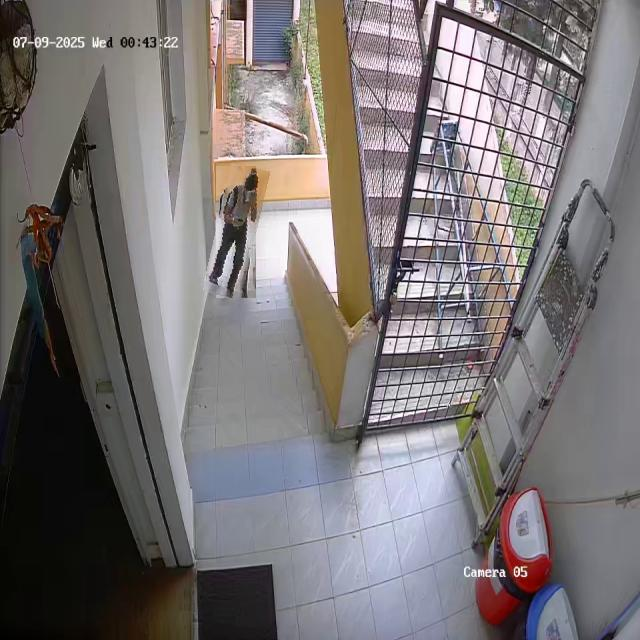person: (209, 165, 263, 299)
